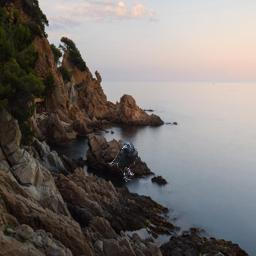Crow: (107, 140, 138, 182)
